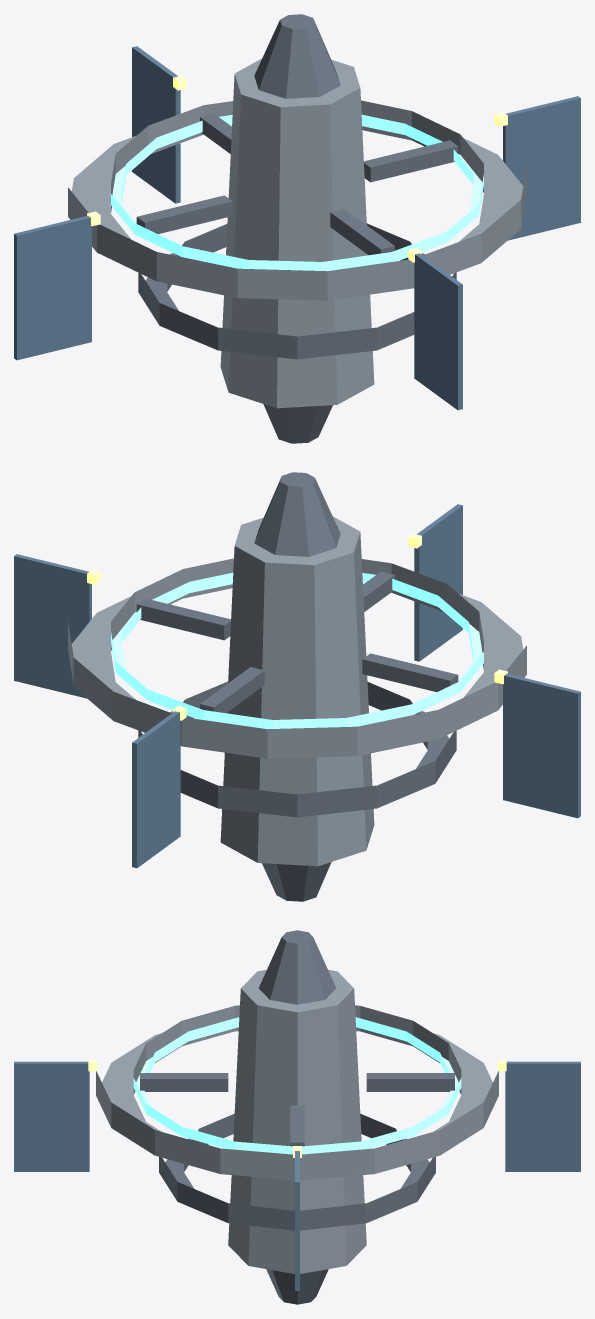
File: outpost-station.glb
The picture shows the model from 3 angles, top to bottom: view 1: azimuth 30°, elevation 25°; view 2: azimuth 150°, elevation 25°; view 3: azimuth 270°, elevation 25°; orthographic projection. The views are drawn at different scales.
Bounding box in the file's own units: 18 × 12.6 × 18.
